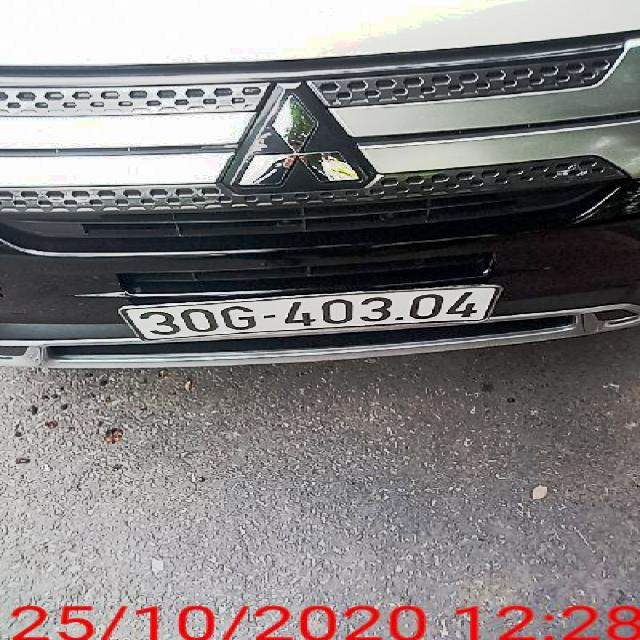license_plate: (123, 286, 501, 339)
